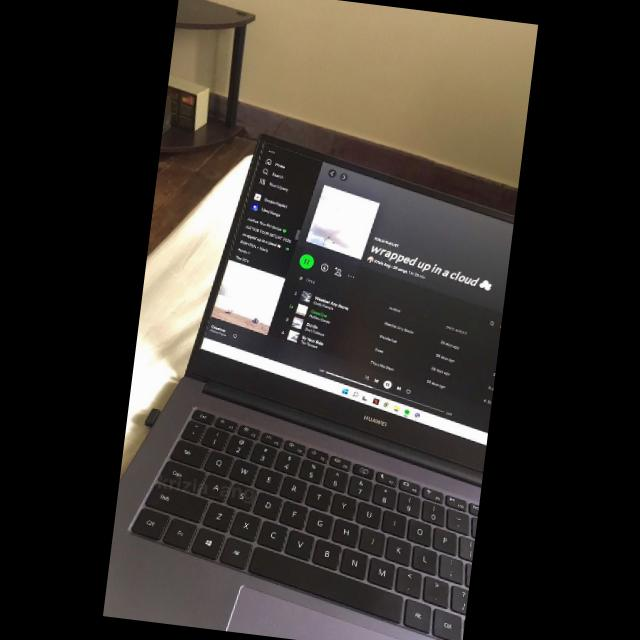laptop: (102, 134, 513, 640)
